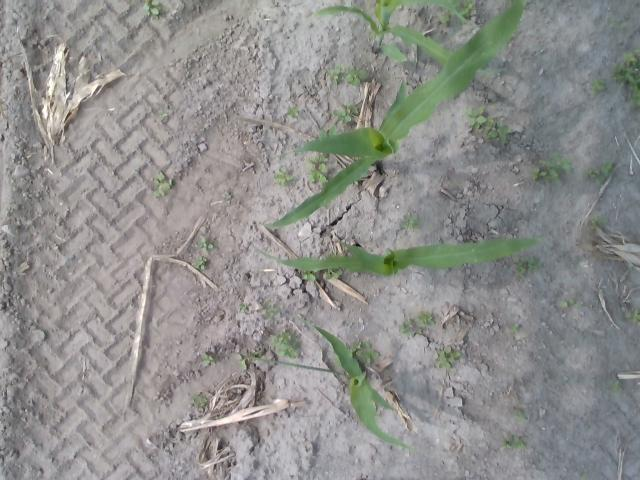Maize: (262, 0, 524, 230), (316, 326, 412, 452), (242, 236, 540, 274), (314, 0, 482, 63)
Weeds: (615, 50, 640, 106), (304, 155, 330, 182), (272, 332, 300, 357), (438, 346, 461, 368), (588, 161, 612, 180), (535, 161, 557, 180), (488, 120, 508, 140), (335, 106, 357, 123), (466, 106, 484, 126), (236, 353, 257, 369), (345, 68, 366, 84), (518, 258, 539, 274), (358, 344, 379, 359), (273, 168, 292, 184), (156, 172, 168, 196), (417, 310, 434, 326), (400, 320, 416, 336), (555, 155, 571, 170), (145, 1, 160, 16), (626, 309, 640, 323), (399, 216, 414, 229), (593, 78, 606, 93), (199, 238, 214, 250), (264, 301, 276, 316), (190, 396, 207, 406), (464, 3, 476, 16), (154, 102, 167, 114), (202, 354, 216, 365), (592, 216, 604, 228), (560, 298, 577, 306), (507, 440, 526, 447), (330, 66, 341, 78), (194, 256, 205, 268), (287, 108, 299, 118), (514, 406, 524, 418), (610, 380, 620, 390), (352, 344, 362, 354), (241, 302, 251, 312), (510, 324, 519, 332), (222, 193, 232, 199)
